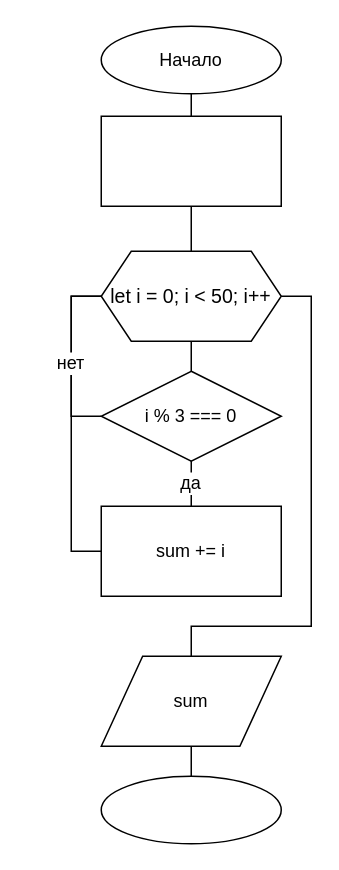
The diagram is 339 pixels wide and 870 high, and some of its shapes have lost their labels. The shapes that lost their labels are listed below. From the top down, each one's box as (x1, y1, x2, y2) in pixels, then its label:
(100, 115, 281, 206): let sum = 0;
(100, 775, 281, 844): Конец
